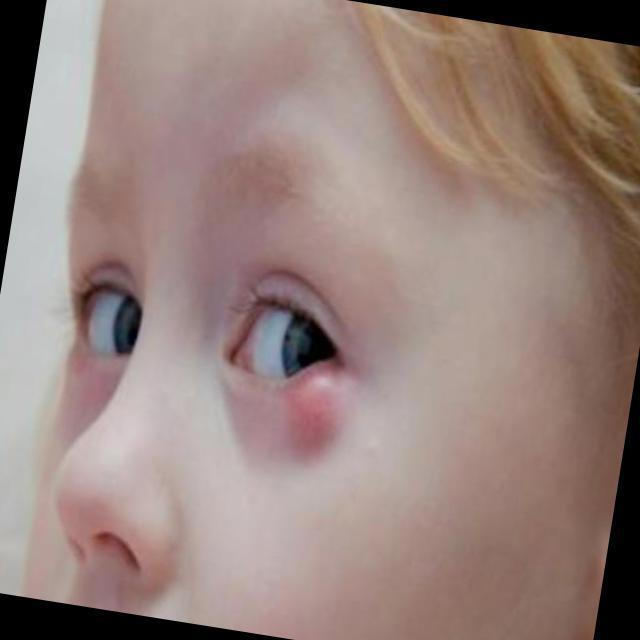Stye: (242, 321, 380, 481)
